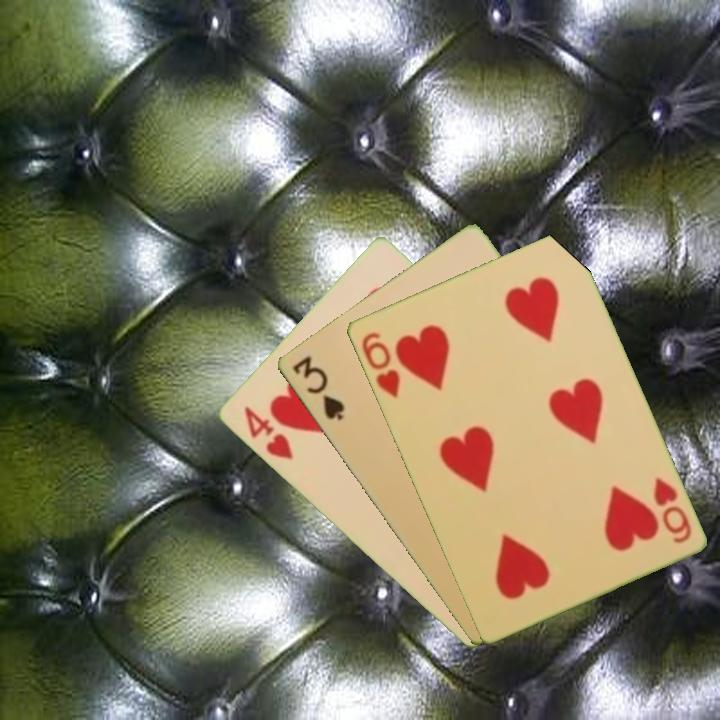3s: (288, 351, 347, 423)
4h: (239, 402, 296, 463)
6h: (357, 328, 403, 401), (649, 473, 694, 546)
